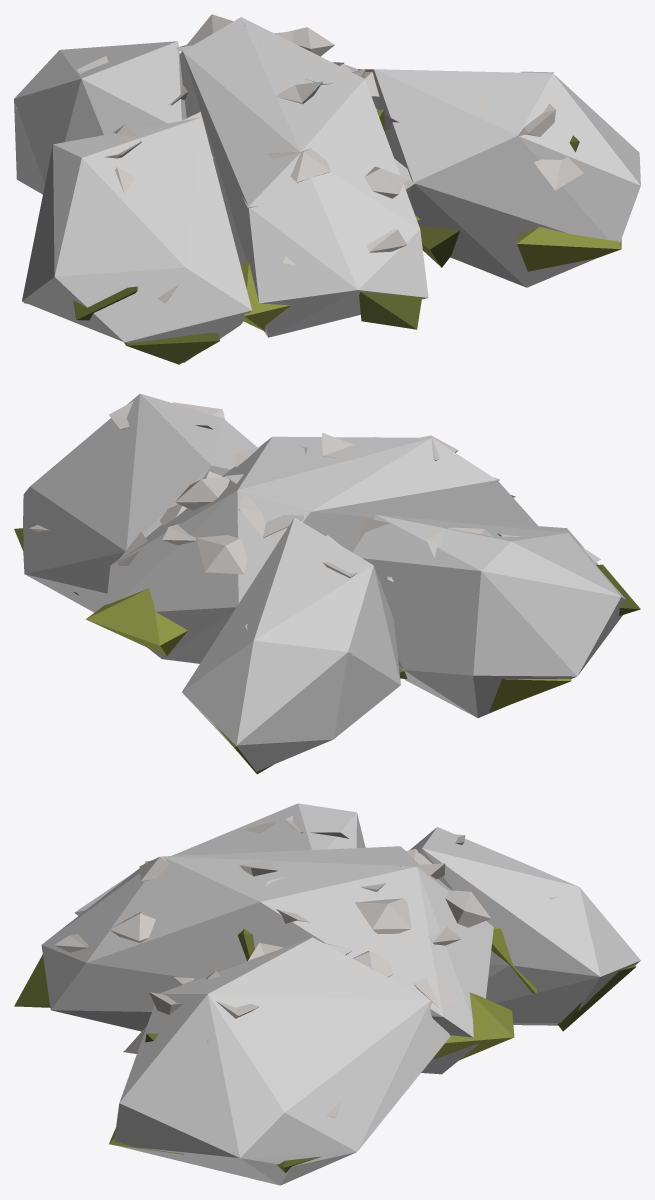
File: SM_Env_Flowers_04.fbx
The picture shows the model from 3 angles, top to bottom: view 1: azimuth 30°, elevation 25°; view 2: azimuth 150°, elevation 25°; view 3: azimuth 270°, elevation 25°; orthographic projection. The views are drawn at different scales.
Parts seen in each view (by area): view 1: SM_Env_Flowers_04_ConvexHulls, SM_Env_Flowers_04; view 2: SM_Env_Flowers_04_ConvexHulls, SM_Env_Flowers_04; view 3: SM_Env_Flowers_04_ConvexHulls, SM_Env_Flowers_04.
Boxes of the visible parts, bbox=[...] form: SM_Env_Flowers_04_ConvexHulls: bbox=[14, 17, 640, 362]; SM_Env_Flowers_04: bbox=[16, 14, 640, 364]; SM_Env_Flowers_04_ConvexHulls: bbox=[23, 393, 625, 771]; SM_Env_Flowers_04: bbox=[14, 401, 640, 774]; SM_Env_Flowers_04_ConvexHulls: bbox=[41, 803, 640, 1185]; SM_Env_Flowers_04: bbox=[14, 815, 636, 1173].
Size of the model in its own units: 160 by 148 by 57.16.
2 materials, 1 textured.
